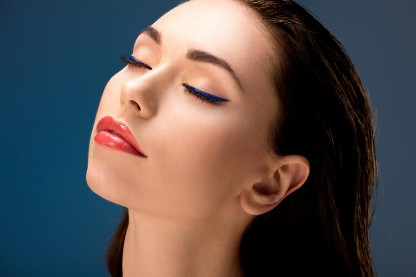闭眼: (175, 69, 235, 111), (120, 47, 150, 77)
